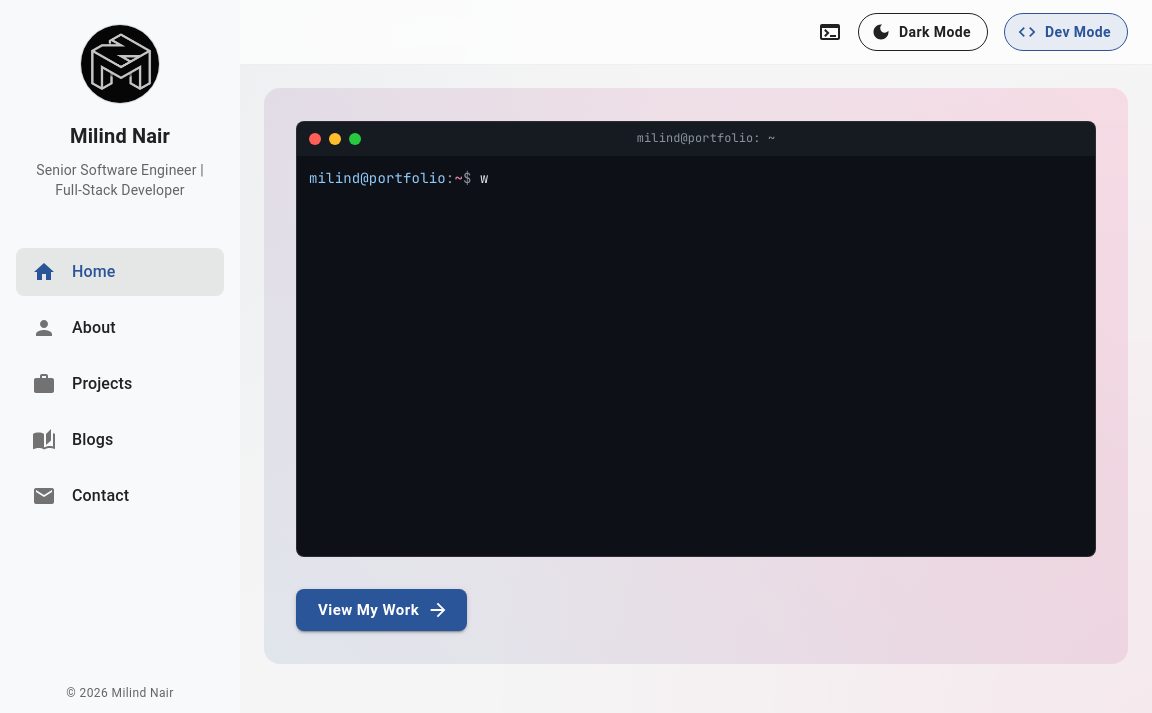
Test: goto projects scrolls and closes the dialog
This screenshot has width=1152, height=713.
Press `
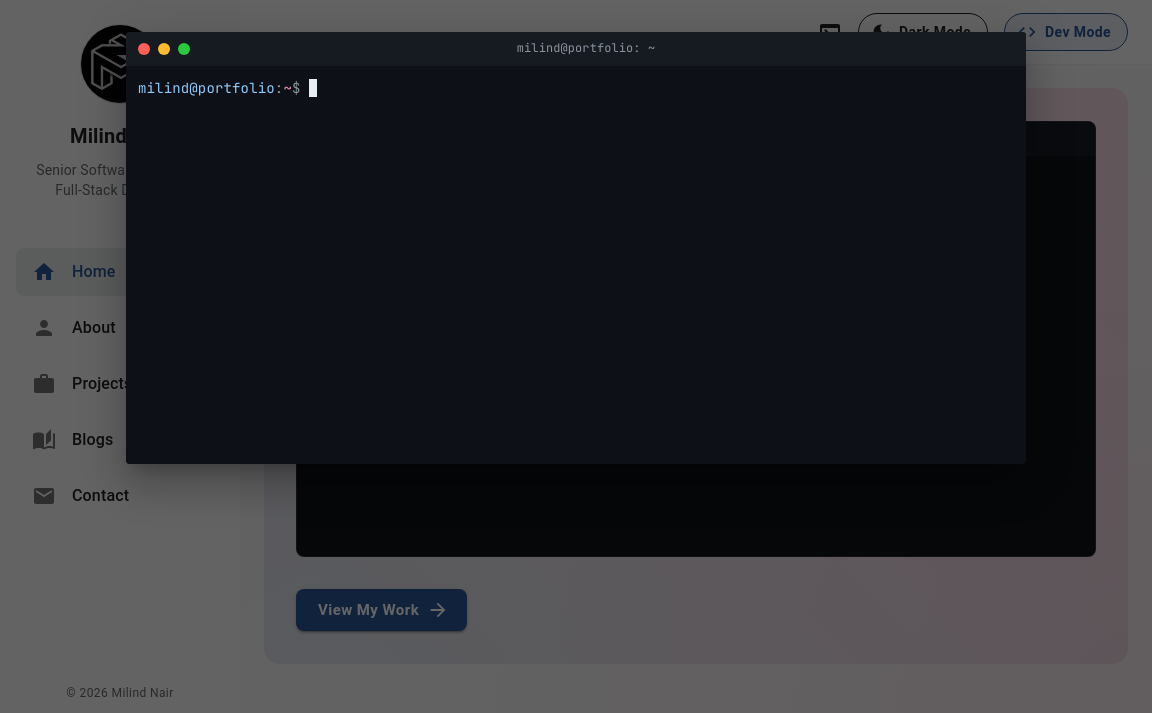
In the field named "Terminal input": point(661, 88) 309,78 -> 1014,99, type "goto projects"
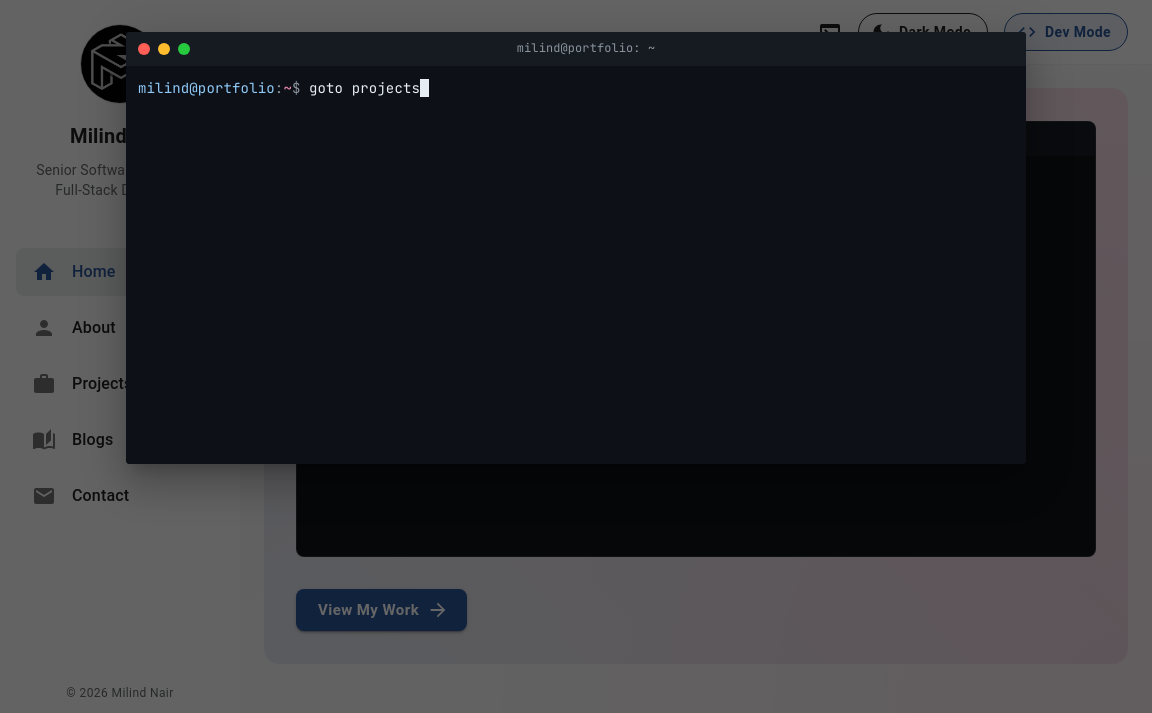
Press Enter in the field named "Terminal input", box 309,78 -> 1014,99
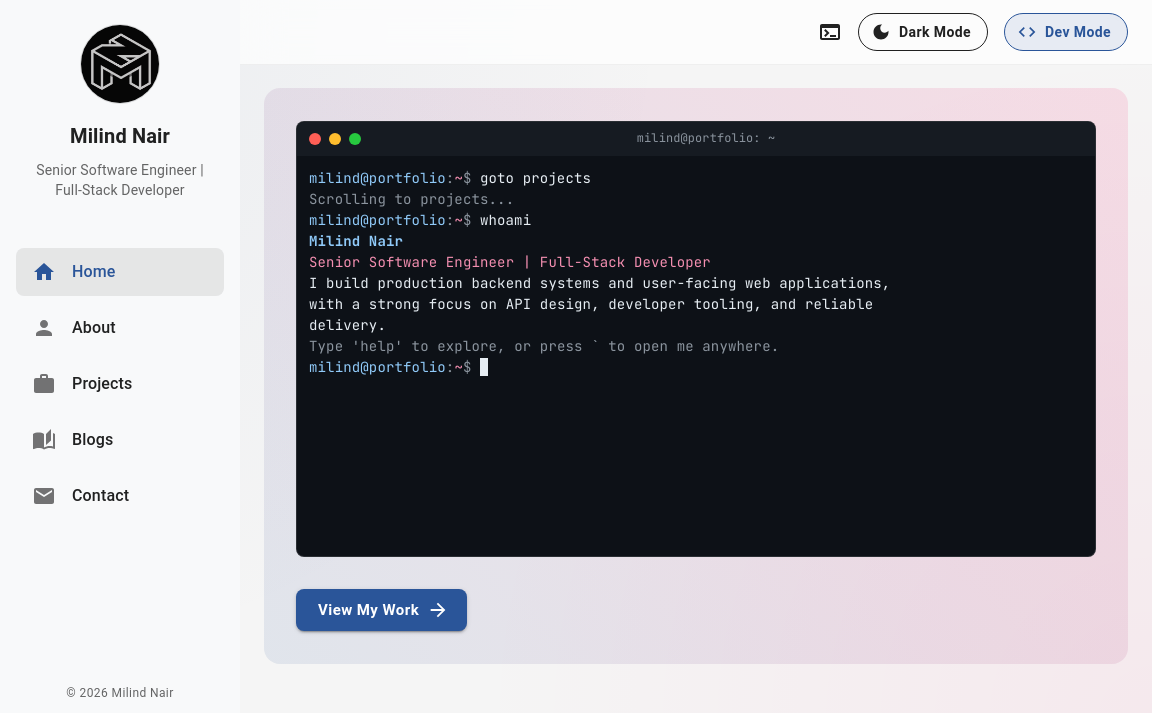
Now the dialog is gone
